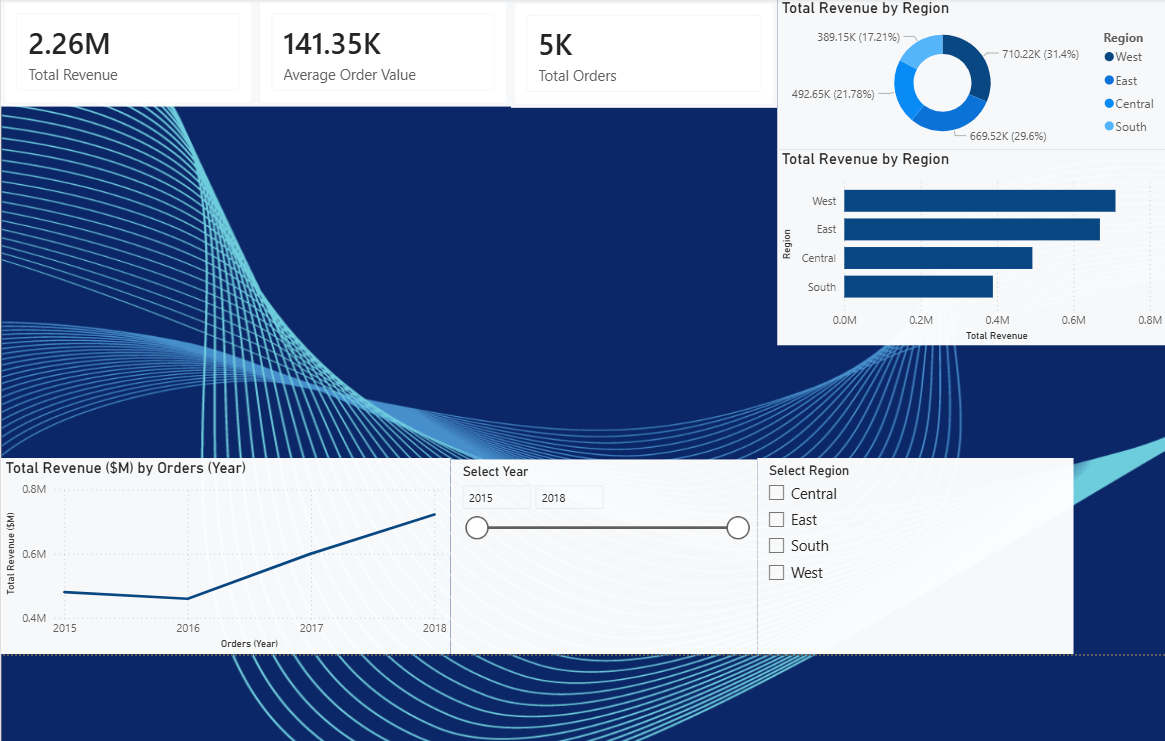

The dashboard page shown, as its layout file describes it:
{"tool":"powerbi","page":{"name":"Page 1","canvas":[1280,720],"ordinal":0},"visuals":[{"type":"cardVisual","fields":{"Data":["Sum(sales_analytics view_sales_by_region.total_sales)"]},"box":[0,0,279.9,119.4],"z":0},{"type":"cardVisual","fields":{"Data":["sales_analytics view_sales_by_region.total_orders"]},"box":[559.9,1.4,292.3,119.4],"z":1000},{"type":"cardVisual","fields":{"Data":["Avg(sales_analytics view_sales_by_region.total_sales)"]},"box":[279.9,0,279.9,119.4],"z":2000},{"type":"lineChart","fields":{"Category":["sales_analytics view_sales_by_region.order_year"],"Y":["Sum(sales_analytics view_sales_by_region.total_sales)"]},"box":[0,505,494,215.4],"z":3000},{"type":"donutChart","fields":{"Category":["sales_analytics view_sales_by_region.region"],"Y":["Sum(sales_analytics view_sales_by_region.total_sales)"]},"box":[852.1,0,428.1,166],"z":4000},{"type":"clusteredBarChart","title":"Total Revenue by Region","fields":{"Category":["sales_analytics view_sales_by_region.region"],"Y":["Sum(sales_analytics view_sales_by_region.total_sales)"]},"box":[852.3,165.3,427.9,214.8],"z":5000},{"type":"slicer","fields":{"Values":["sales_analytics view_sales_by_region.order_year"]},"box":[494,506.3,336.2,214.1],"z":6000},{"type":"slicer","fields":{"Values":["sales_analytics view_sales_by_region.region"]},"box":[830.2,505,347.2,215.4],"z":7000}]}

Visuals, with their boxes on the page's 1280x720 design canvas (x1, y1, x2, y2). These are canvas units, not pixel positions in the 1165x741 screenshot, which may show the page scaled, cropped or inside an application window:
cardVisual - Sum(sales_analytics view_sales_by_region.total_sales): <bbox>0, 0, 280, 119</bbox>
cardVisual - sales_analytics view_sales_by_region.total_orders: <bbox>560, 1, 852, 121</bbox>
cardVisual - Avg(sales_analytics view_sales_by_region.total_sales): <bbox>280, 0, 560, 119</bbox>
lineChart - sales_analytics view_sales_by_region.order_year x Sum(sales_analytics view_sales_by_region.total_sales): <bbox>0, 505, 494, 720</bbox>
donutChart - sales_analytics view_sales_by_region.region x Sum(sales_analytics view_sales_by_region.total_sales): <bbox>852, 0, 1280, 166</bbox>
"Total Revenue by Region" clusteredBarChart: <bbox>852, 165, 1280, 380</bbox>
slicer - sales_analytics view_sales_by_region.order_year: <bbox>494, 506, 830, 720</bbox>
slicer - sales_analytics view_sales_by_region.region: <bbox>830, 505, 1177, 720</bbox>
